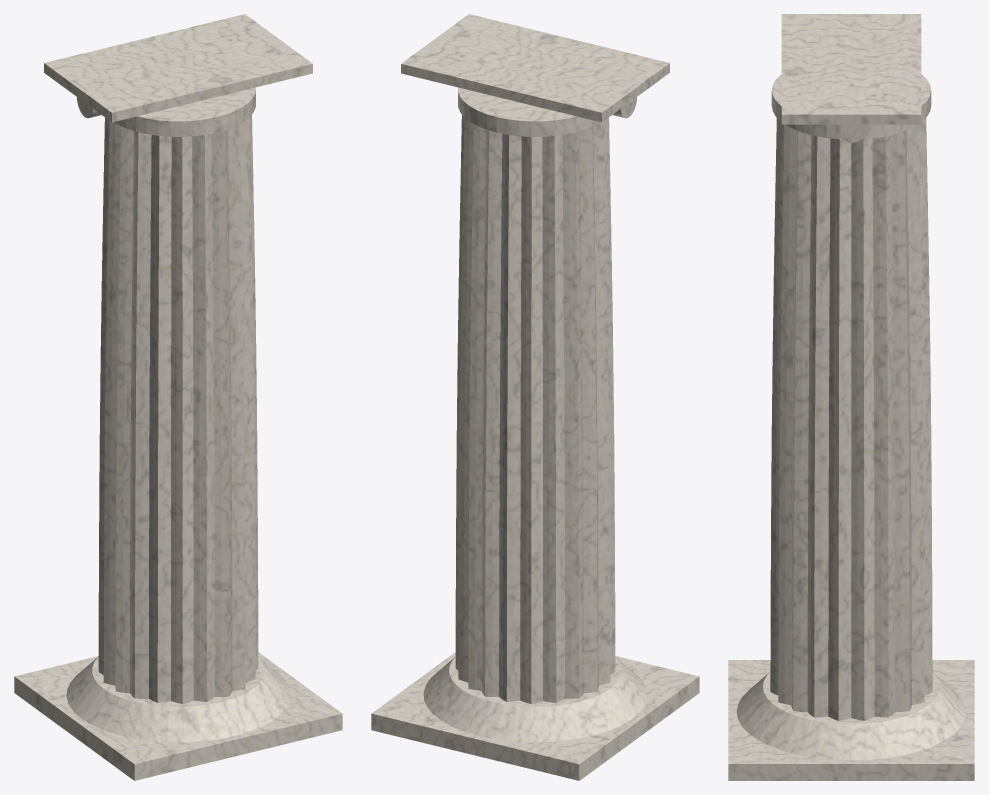
File: column.glb
3 renders of one model, left to right at view 1: azimuth 30°, elevation 25°; view 2: azimuth 150°, elevation 25°; view 3: azimuth 270°, elevation 25°, orthographic. The views are drawn at different scales.
Parts seen in each view (by area): view 1: column-col; view 2: column-col; view 3: column-col.
Boxes of the visible parts, left/top/right/bottom form: column-col: left=14, top=14, right=342, bottom=780; column-col: left=371, top=14, right=699, bottom=780; column-col: left=728, top=14, right=974, bottom=780.
Bounding box in the file's own units: 1.08 × 3.22 × 1.08.
Materials: 1 (1 with a texture image).
